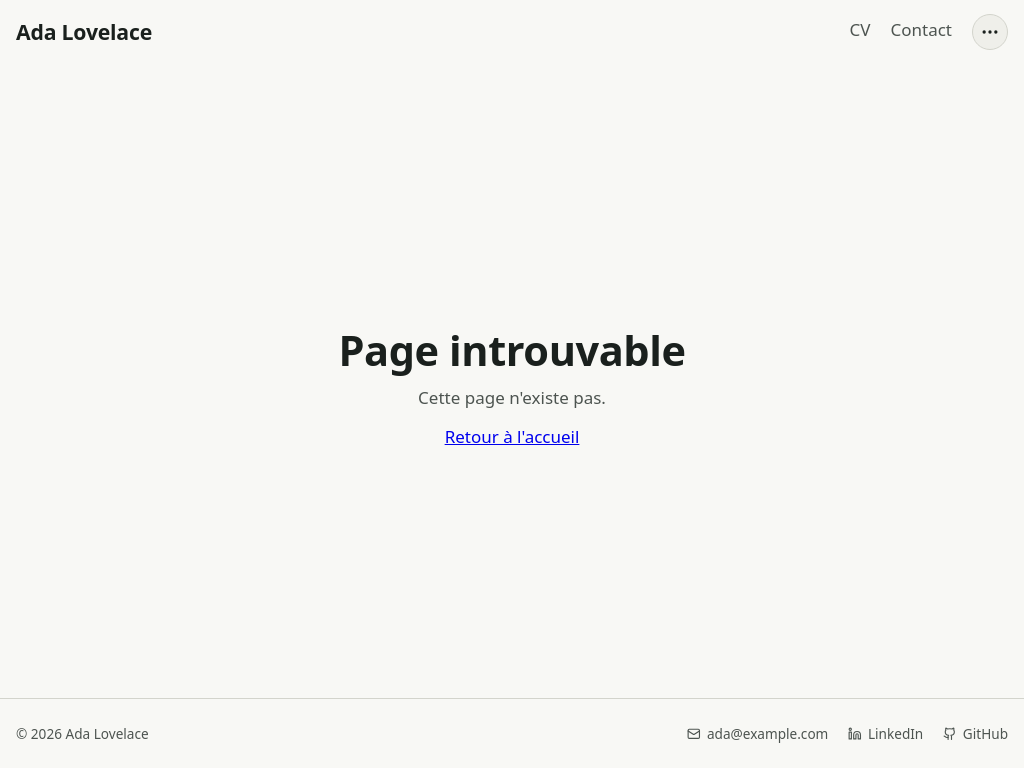
Test: AppRoutes › unknown addresses › goes back to the home page of its Locale
Click the link "Retour à l'accueil". click: {"x": 512, "y": 436}
box: [445,425,579,448]
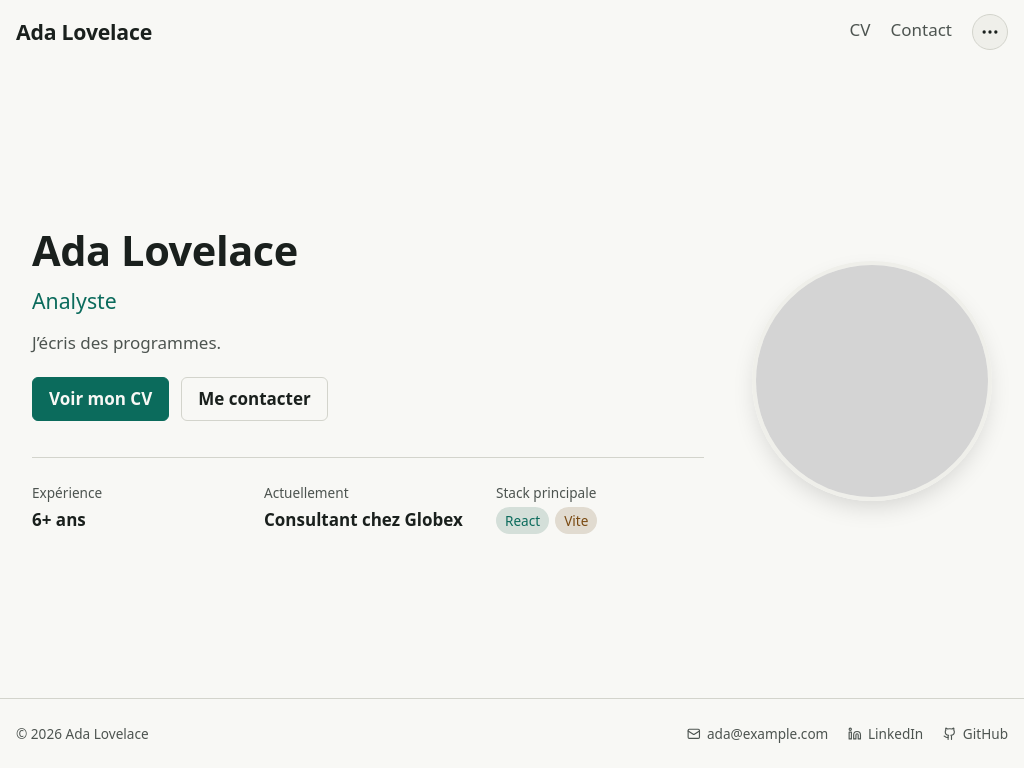
Result: the heading "Ada Lovelace" is shown at [32,228,298,273]
